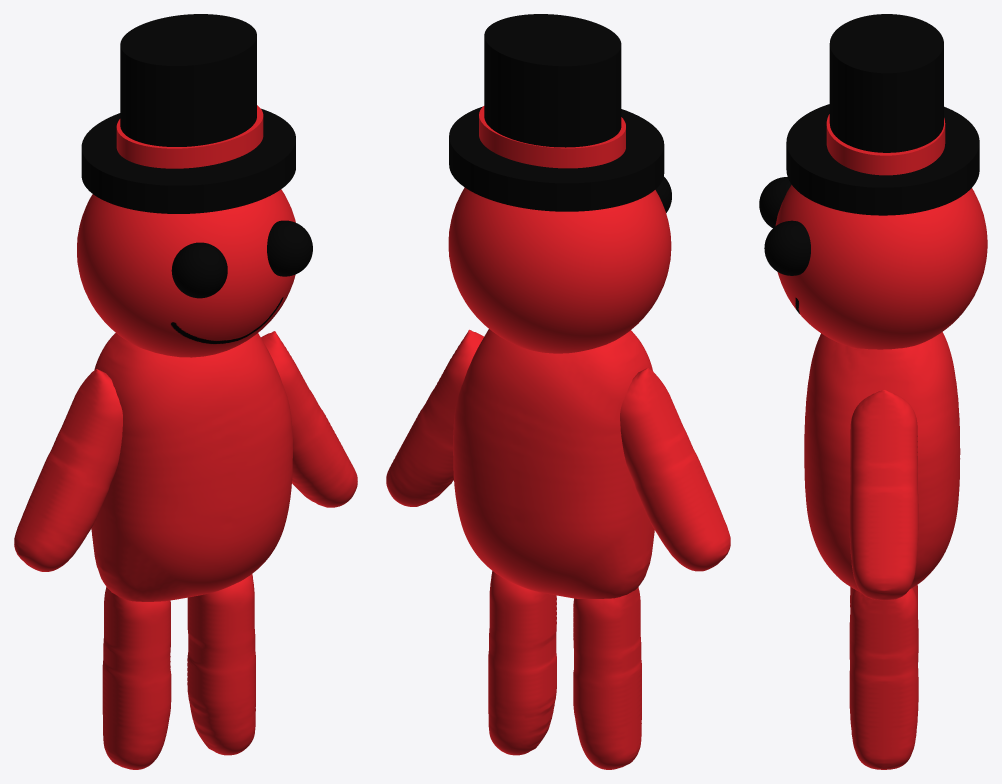
Rendered from goblor.glb.
3 views of the same model, side by side, from view 1: azimuth 30°, elevation 25°; view 2: azimuth 150°, elevation 25°; view 3: azimuth 270°, elevation 25° (orthographic). The views are drawn at different scales.
Visible parts, largest first — view 1: mesh_id45, mesh_id27, mesh_id31, mesh_id82, mesh_id29, mesh_id62, mesh_id69, mesh_id81, mesh_id44, mesh_id33, mesh_id39; view 2: mesh_id45, mesh_id27, mesh_id31, mesh_id82, mesh_id29, mesh_id62, mesh_id69, mesh_id81, mesh_id44; view 3: mesh_id27, mesh_id45, mesh_id31, mesh_id81, mesh_id69, mesh_id29, mesh_id44, mesh_id39, mesh_id33.
Boxes of the visible parts, x1,y1,x2,y2 form: mesh_id45: (91,333,292,601); mesh_id27: (77,189,295,357); mesh_id31: (120,14,256,146); mesh_id82: (14,369,122,571); mesh_id29: (81,108,295,213); mesh_id62: (102,587,171,769); mesh_id69: (187,574,255,755); mesh_id81: (261,331,357,507); mesh_id44: (116,105,263,168); mesh_id33: (171,242,227,298); mesh_id39: (267,220,312,276); mesh_id45: (453,329,654,598); mesh_id27: (448,187,671,353); mesh_id31: (484,14,621,147); mesh_id82: (620,368,730,571); mesh_id29: (449,106,664,211); mesh_id62: (573,587,641,769); mesh_id69: (488,571,556,755); mesh_id81: (386,329,483,506); mesh_id44: (479,106,625,168); mesh_id27: (775,185,987,349); mesh_id45: (804,332,960,592); mesh_id31: (829,14,943,152); mesh_id81: (849,389,918,600); mesh_id69: (849,588,918,769); mesh_id29: (786,104,979,215); mesh_id44: (826,114,945,175); mesh_id39: (764,220,810,275); mesh_id33: (759,177,791,227).
Bounding box in the file's own units: 0.6167 × 1.27 × 0.372.
Materials: 7 (7 with a texture image).
